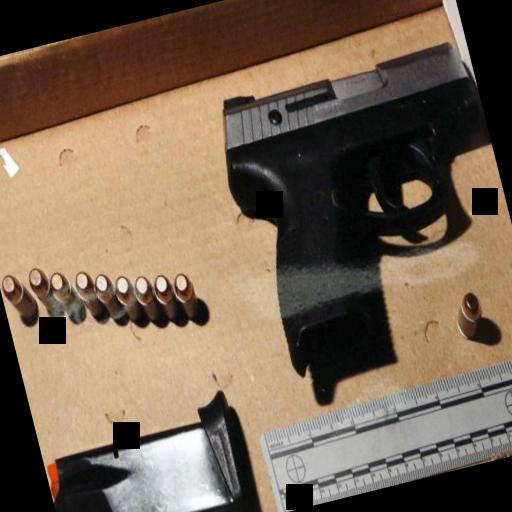Handgun: (196, 30, 512, 366)
